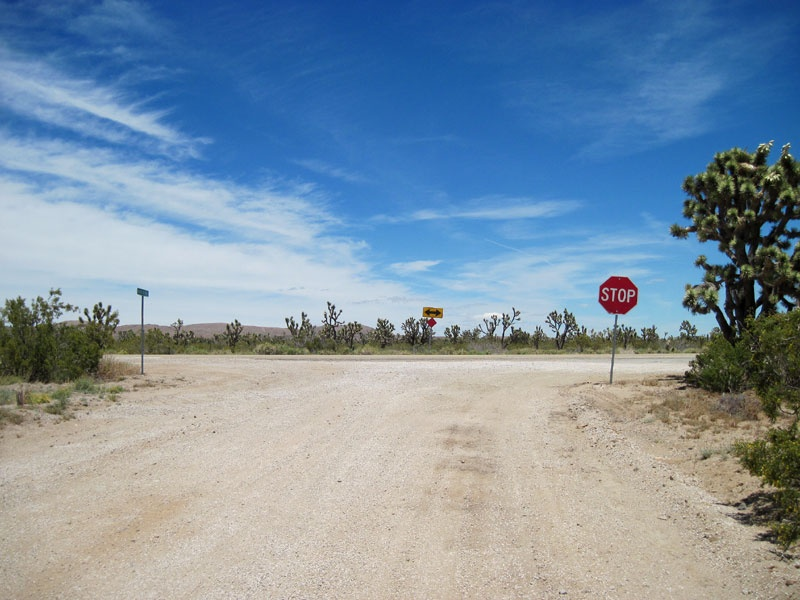stop sign: (596, 274, 641, 317)
